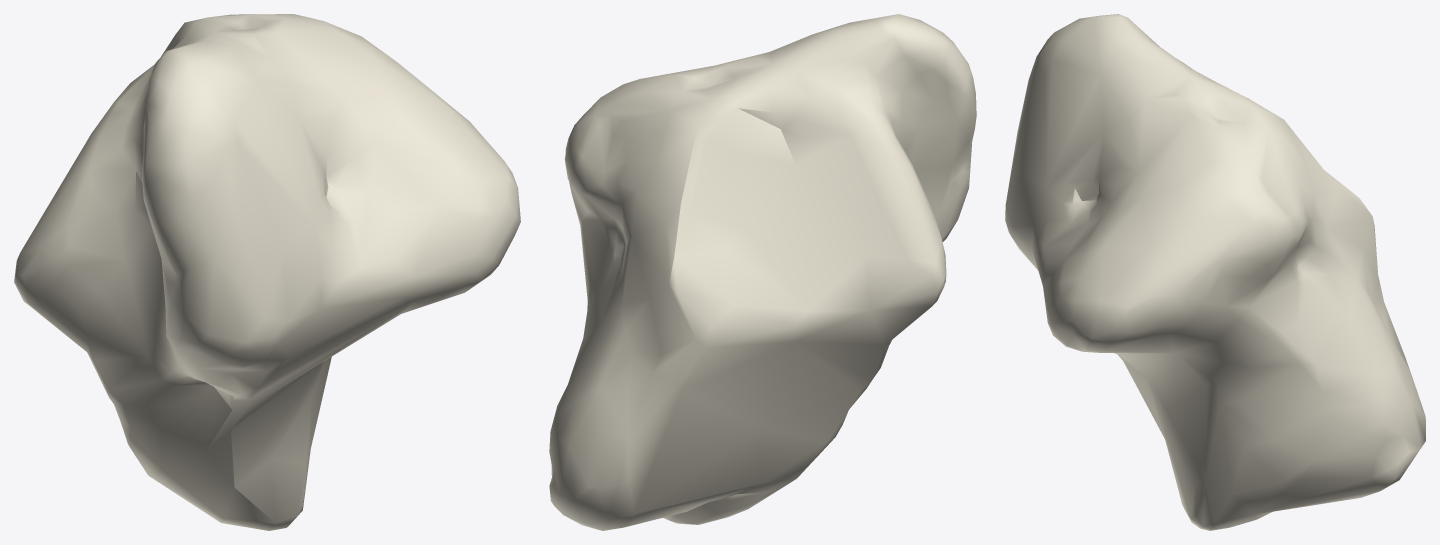
File: fma24444.glb
3 views of the same model, side by side, from view 1: azimuth 30°, elevation 25°; view 2: azimuth 150°, elevation 25°; view 3: azimuth 270°, elevation 25° (orthographic). The views are drawn at different scales.
Visible parts, largest first — view 1: FMA24444; view 2: FMA24444; view 3: FMA24444.
Part boxes in pixels (<box>): FMA24444: <box>14,14,520,530</box>; FMA24444: <box>549,14,976,530</box>; FMA24444: <box>1005,14,1425,530</box>.
Size of the model in its own units: 0.0171 by 0.0201 by 0.017.
